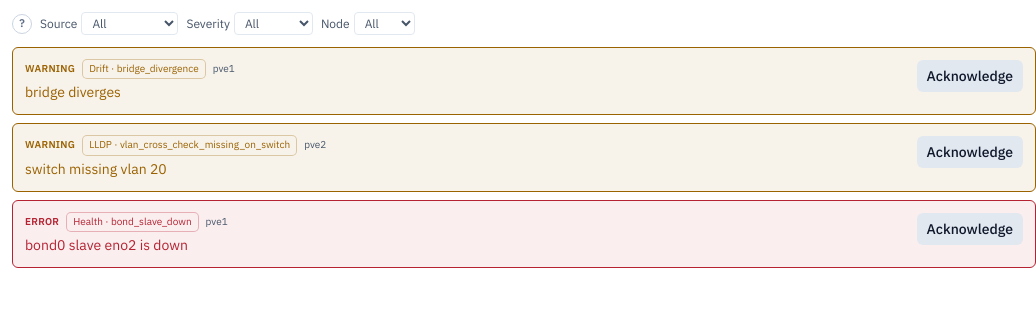
FindingsStreamPanel › combines filters and shows a clear-filters affordance
Expected: the text "bridge diverges" is shown, [25, 83, 121, 101]
Select "Drift" in the dropdown named "Filter by source" at (130, 24), box [81, 12, 178, 35]
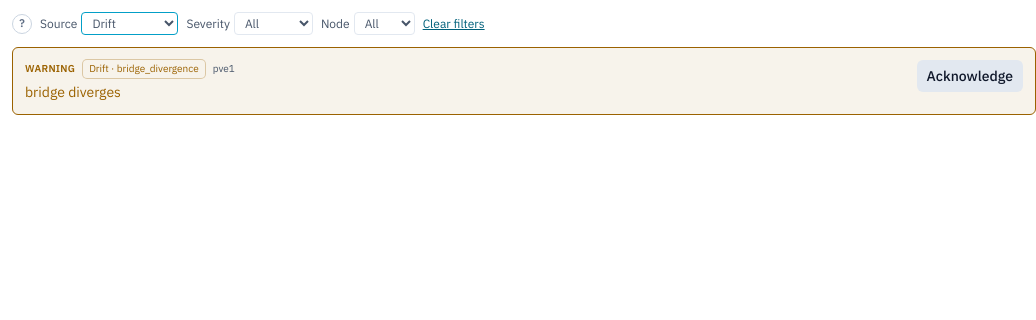
Select "pve2" in the dropdown named "Filter by node" at (384, 24), box [354, 12, 415, 35]
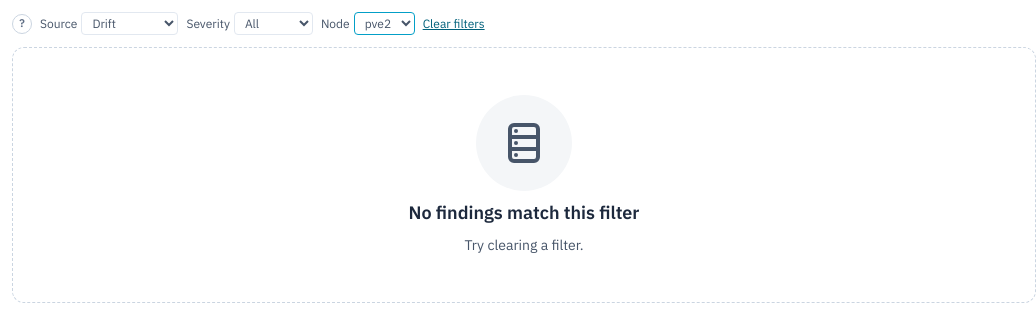
Expected: the heading "No findings match this filter" is shown, [408, 199, 639, 227]
Click the button "Clear filters" at (454, 24), box [423, 16, 485, 32]
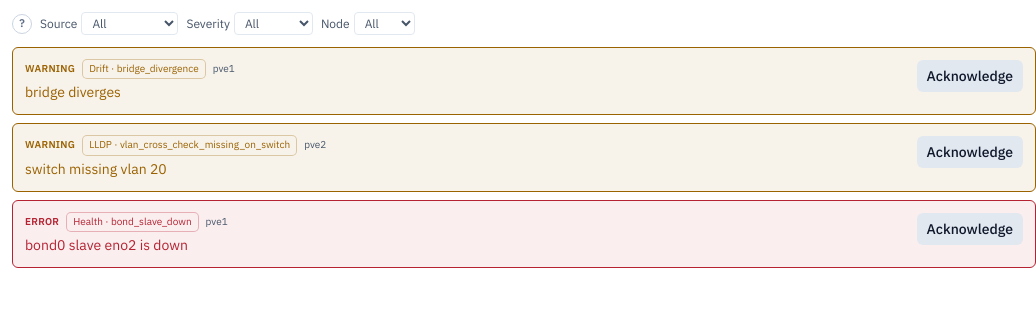
Expected: the text "bridge diverges" is shown, [25, 83, 121, 101]
